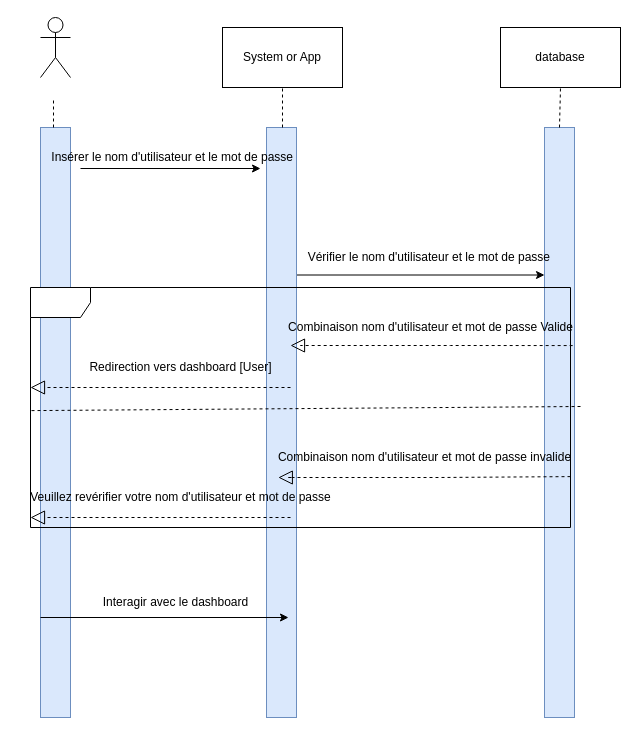
This 638x735 diagram has some shape labels left out. The box of each missing label's shape, as (x1, y1, x2, y2) in pixels:
frame: (30, 286, 570, 528)
User: (40, 16, 70, 78)
